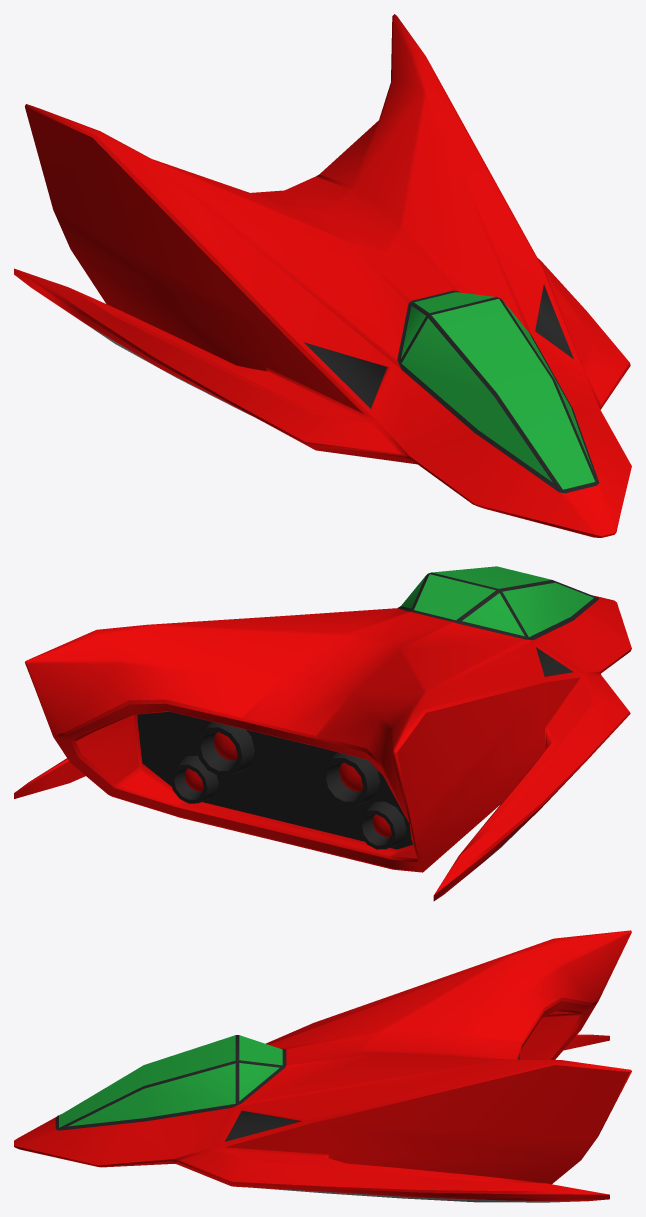
Rendered from 180609_Swallow.fbx.
The picture shows the model from 3 angles, top to bottom: view 1: azimuth 30°, elevation 25°; view 2: azimuth 150°, elevation 25°; view 3: azimuth 270°, elevation 25°; orthographic projection. The views are drawn at different scales.
Parts seen in each view (by area): view 1: Body; view 2: Body, Other; view 3: Body.
Boxes of the visible parts, x1,y1,x2,y2 form: Body: (14, 14, 631, 537); Body: (14, 566, 631, 901); Other: (170, 597, 598, 849); Body: (14, 930, 631, 1202).
Size of the model in its own units: 269 by 118 by 442.
